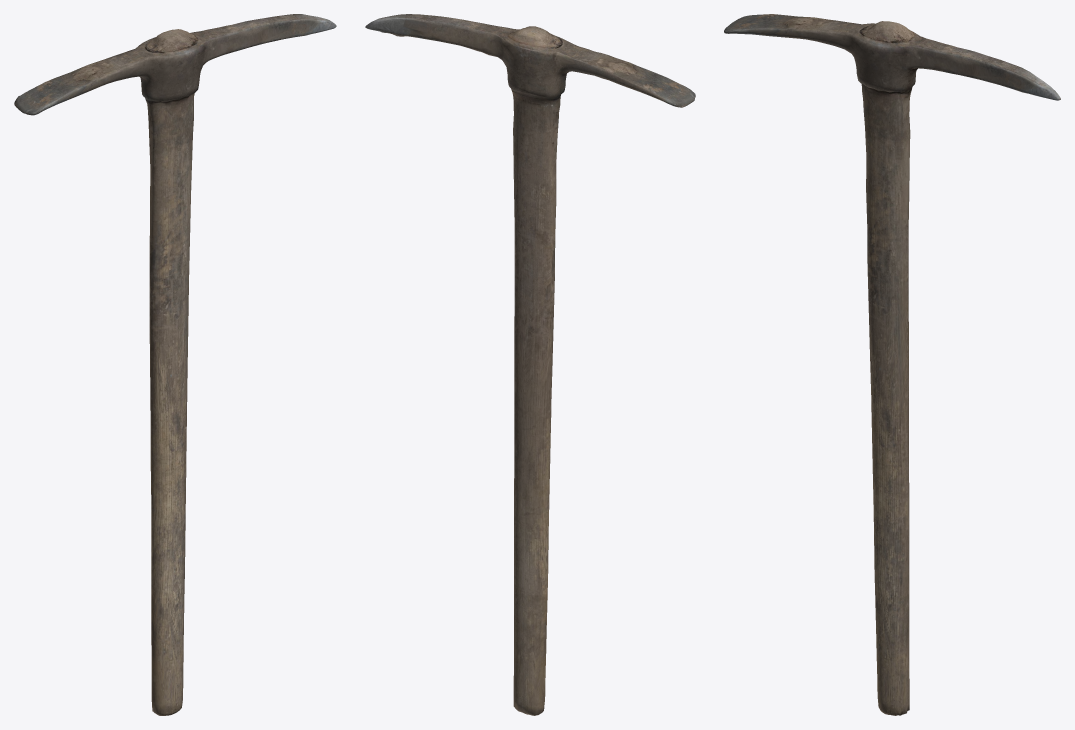
Rendered from picke_dirty_01.gltf.
The picture shows the model from 3 angles, left to right: view 1: azimuth 30°, elevation 25°; view 2: azimuth 150°, elevation 25°; view 3: azimuth 330°, elevation 25°; orthographic projection.
Visible parts, largest first — view 1: picke_dirty_01__x; view 2: picke_dirty_01__x; view 3: picke_dirty_01__x.
Part boxes in pixels (left/top/right/bottom): picke_dirty_01__x: left=14, top=14, right=336, bottom=715; picke_dirty_01__x: left=365, top=14, right=695, bottom=715; picke_dirty_01__x: left=724, top=14, right=1060, bottom=715.
Size of the model in its own units: 0.5498 by 1.12 by 0.0691.
Materials: 1 (1 with a texture image).
